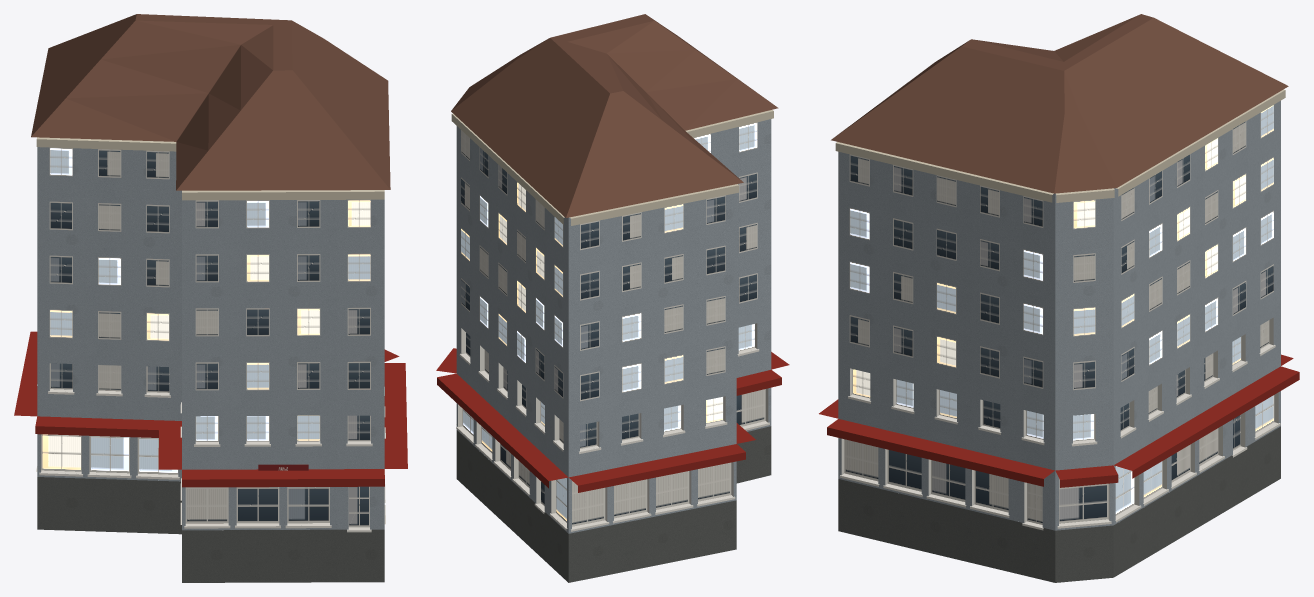
Rendered from langA_cinque.glb.
3 renders of one model, left to right at view 1: azimuth 30°, elevation 25°; view 2: azimuth 150°, elevation 25°; view 3: azimuth 270°, elevation 25°, orthographic. The views are drawn at different scales.
Parts seen in each view (by area): view 1: langA_cinque; view 2: langA_cinque; view 3: langA_cinque.
Part boxes in pixels (left/top/right/bottom): langA_cinque: left=14, top=14, right=407, bottom=582; langA_cinque: left=436, top=14, right=789, bottom=582; langA_cinque: left=819, top=14, right=1299, bottom=582.
Bounding box in the file's own units: 20.86 × 26.98 × 25.02.
3 materials, 3 textured.
